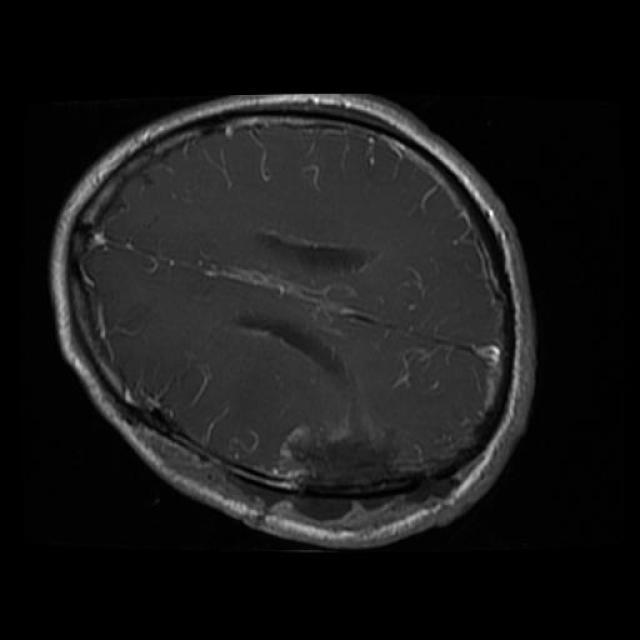Glioma: (278, 391, 400, 492)
